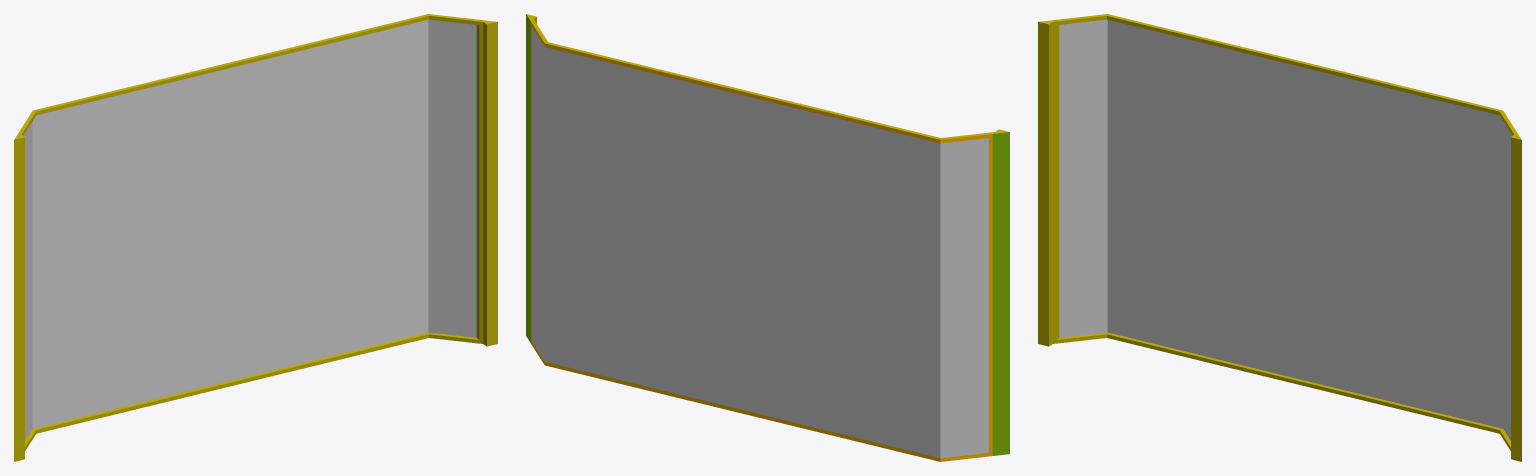
Rendered from window_panoramic_11x1x7.dae.
The picture shows the model from 3 angles, left to right: view 1: azimuth 30°, elevation 25°; view 2: azimuth 150°, elevation 25°; view 3: azimuth 330°, elevation 25°; orthographic projection.
Parts seen in each view (by area): view 1: Cube; view 2: Cube; view 3: Cube.
Part boxes in pixels (bbox=[...]): Cube: bbox=[14, 14, 497, 461]; Cube: bbox=[526, 14, 1009, 461]; Cube: bbox=[1038, 14, 1521, 461].
Bounding box in the file's own units: 2.75 × 0.25 × 1.75.
